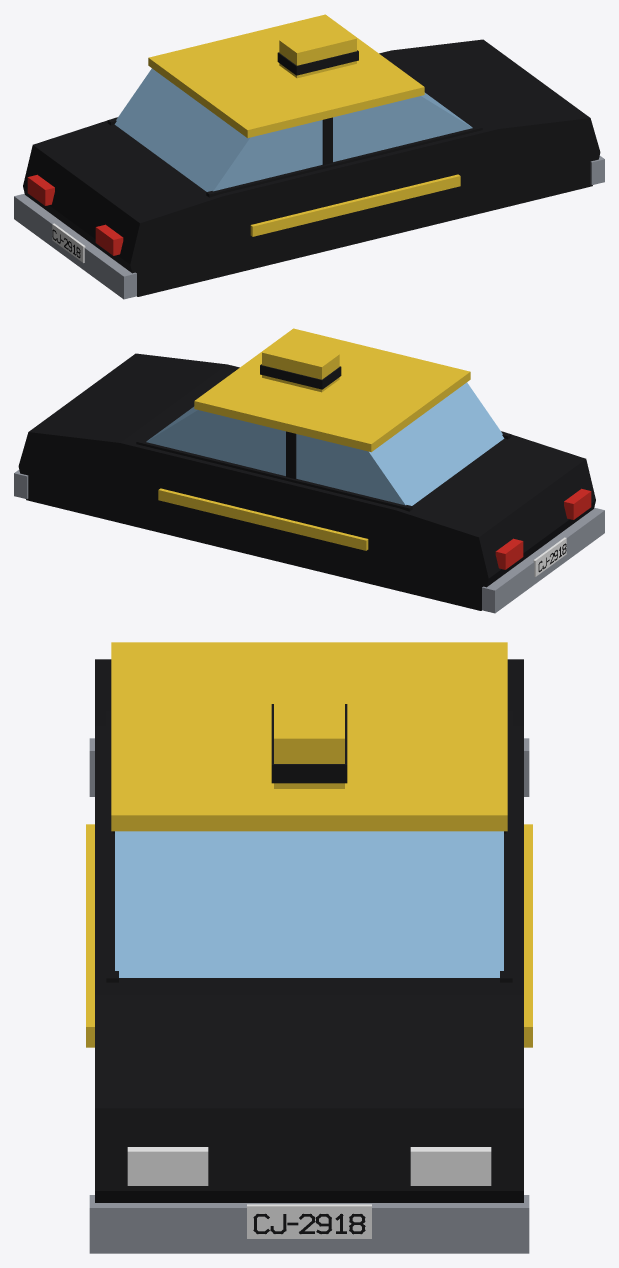
File: taxi_chileno_body.obj
3 renders of one model, top to bottom at view 1: azimuth 30°, elevation 25°; view 2: azimuth 150°, elevation 25°; view 3: azimuth 270°, elevation 25°, orthographic. The views are drawn at different scales.
Parts seen in each view (by area): view 1: taxi_chileno_body; view 2: taxi_chileno_body; view 3: taxi_chileno_body.
Boxes of the visible parts, bbox=[...] form: taxi_chileno_body: bbox=[14, 14, 604, 299]; taxi_chileno_body: bbox=[14, 328, 604, 613]; taxi_chileno_body: bbox=[86, 642, 532, 1253].
Bounding box in the file's own units: 4.44 × 1.41 × 1.77.
